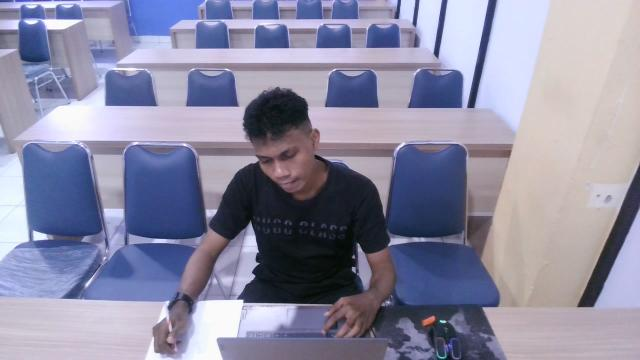Normal_Writing: (143, 81, 402, 360)
